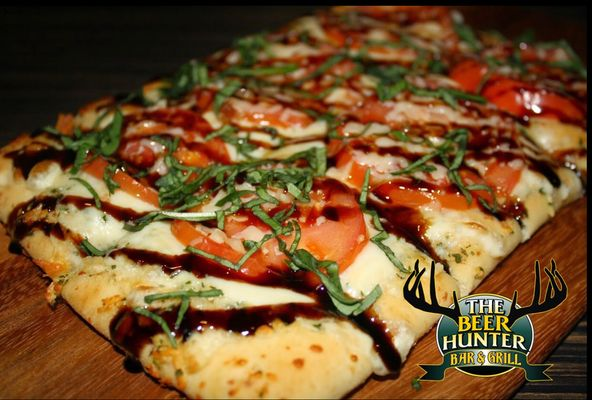sandwich: (0, 8, 580, 392)
